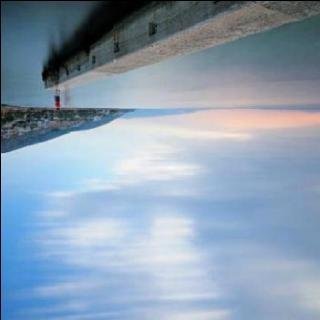Cirrostratus: (38, 129, 320, 320)
